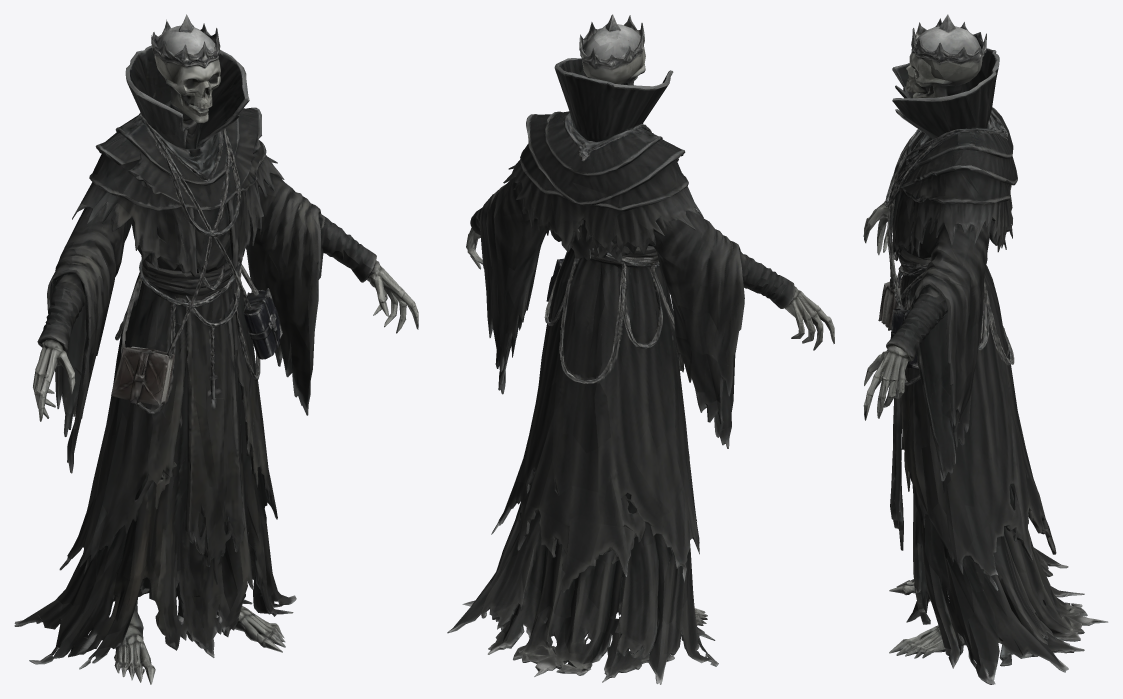
File: court_lich.glb
The picture shows the model from 3 angles, left to right: view 1: azimuth 30°, elevation 25°; view 2: azimuth 150°, elevation 25°; view 3: azimuth 270°, elevation 25°; orthographic projection. The views are drawn at different scales.
Parts seen in each view (by area): view 1: Mesh_0; view 2: Mesh_0; view 3: Mesh_0.
Boxes of the visible parts, x1,y1,x2,y2 form: Mesh_0: (14,14,418,684); Mesh_0: (447,14,834,684); Mesh_0: (863,14,1108,684).
Bounding box in the file's own units: 1.19 × 1.9 × 0.6925.
1 material, 1 textured.
